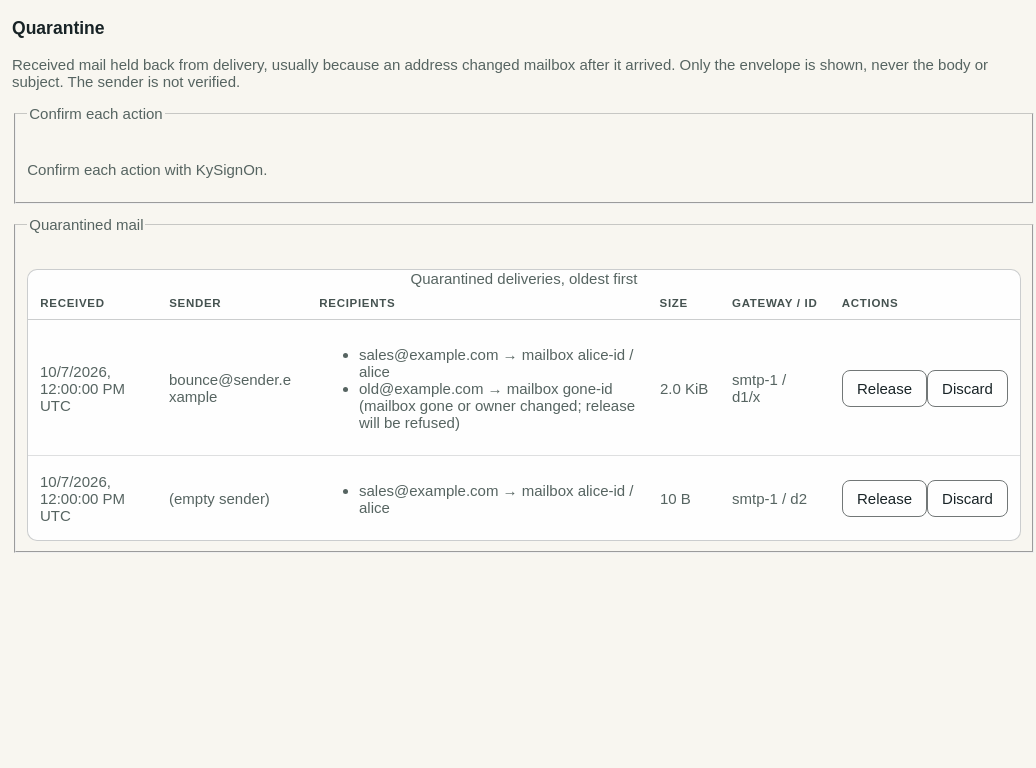
stays usable when KySignOn confirmation is cancelled
Expected: the text "bounce@sender.example" is shown, [157, 320, 307, 456]
Click the button with aria-label "Release smtp-1 / d1/x": (884, 388) [842, 370, 927, 406]
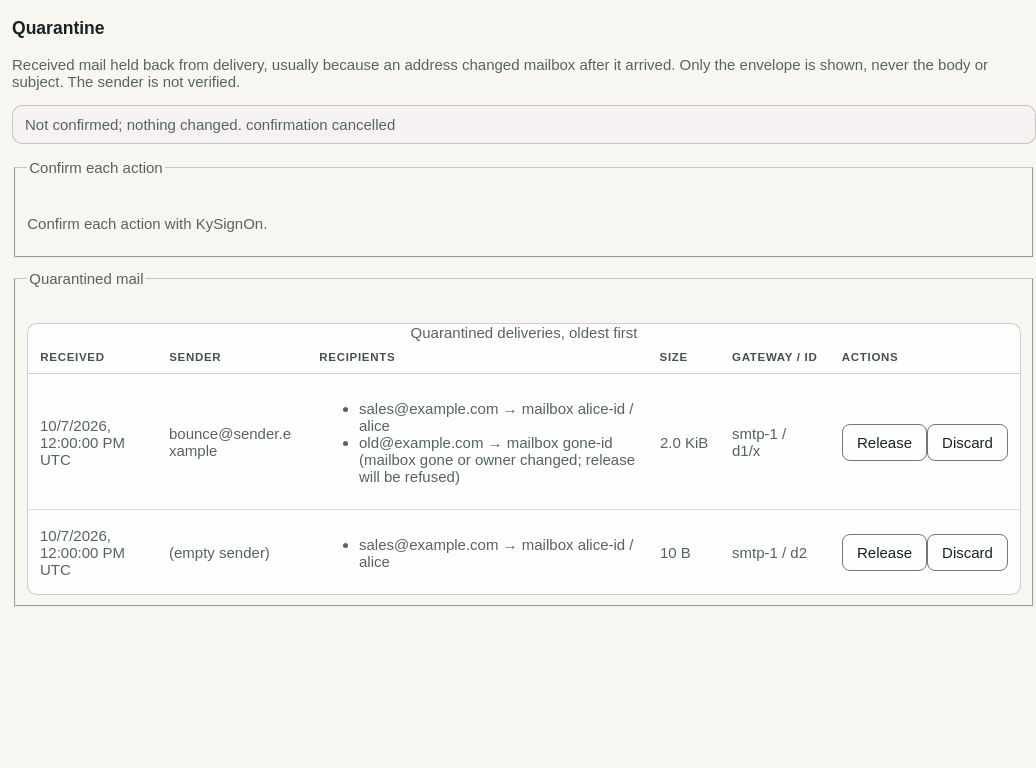
Expected: the element "Quarantined mail" is enabled, [14, 270, 1034, 607]
Result: the message reads "Not confirmed; nothing changed. confirmation cancelled" at [25, 116, 395, 133]
